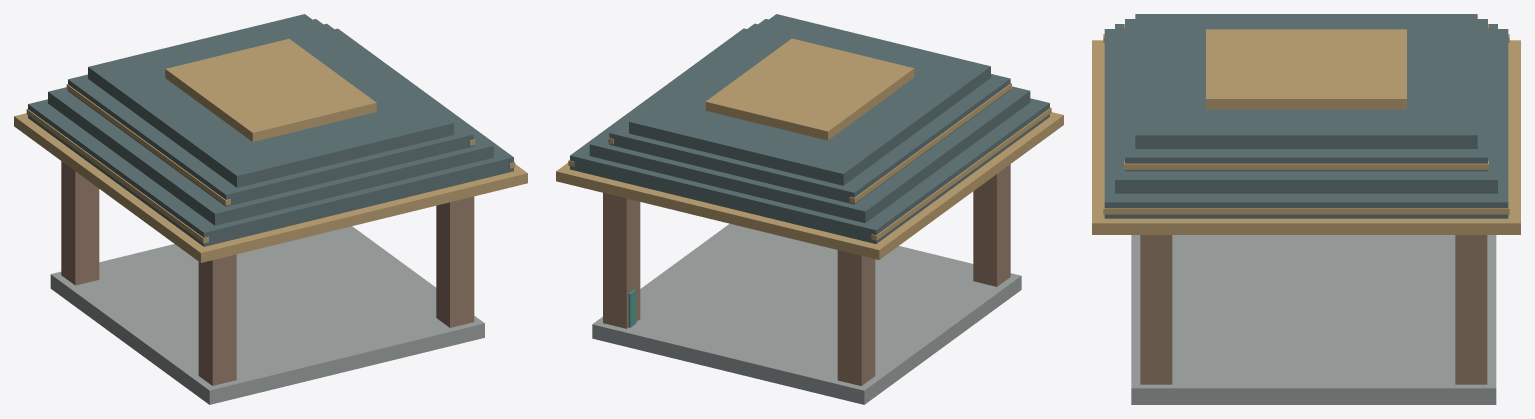
File: wood_pavilion.glb
3 views of the same model, side by side, from view 1: azimuth 30°, elevation 25°; view 2: azimuth 150°, elevation 25°; view 3: azimuth 270°, elevation 25° (orthographic). The views are drawn at different scales.
Parts seen in each view (by area): view 1: wood_pavilion_04_roof_courses, wood_pavilion_00_floor, wood_pavilion_01_open_pillars, wood_pavilion_06_upper_ridge, wood_pavilion_03_eaves, wood_pavilion_05_ridge_trim; view 2: wood_pavilion_04_roof_courses, wood_pavilion_00_floor, wood_pavilion_01_open_pillars, wood_pavilion_06_upper_ridge, wood_pavilion_03_eaves, wood_pavilion_05_ridge_trim; view 3: wood_pavilion_04_roof_courses, wood_pavilion_00_floor, wood_pavilion_06_upper_ridge, wood_pavilion_03_eaves, wood_pavilion_01_open_pillars, wood_pavilion_05_ridge_trim.
Part boxes in pixels (bbox=[...]): wood_pavilion_04_roof_courses: bbox=[28, 14, 513, 246]; wood_pavilion_00_floor: bbox=[50, 226, 484, 404]; wood_pavilion_01_open_pillars: bbox=[61, 161, 474, 385]; wood_pavilion_06_upper_ridge: bbox=[165, 39, 376, 141]; wood_pavilion_03_eaves: bbox=[14, 113, 527, 262]; wood_pavilion_05_ridge_trim: bbox=[26, 84, 515, 243]; wood_pavilion_04_roof_courses: bbox=[570, 14, 1049, 243]; wood_pavilion_00_floor: bbox=[592, 224, 1021, 404]; wood_pavilion_01_open_pillars: bbox=[603, 164, 1010, 385]; wood_pavilion_06_upper_ridge: bbox=[705, 38, 914, 140]; wood_pavilion_03_eaves: bbox=[556, 112, 1063, 259]; wood_pavilion_05_ridge_trim: bbox=[568, 83, 1051, 240]; wood_pavilion_04_roof_courses: bbox=[1104, 14, 1508, 218]; wood_pavilion_00_floor: bbox=[1131, 235, 1496, 404]; wood_pavilion_06_upper_ridge: bbox=[1206, 29, 1406, 109]; wood_pavilion_03_eaves: bbox=[1092, 40, 1520, 234]; wood_pavilion_01_open_pillars: bbox=[1140, 235, 1487, 384]; wood_pavilion_05_ridge_trim: bbox=[1103, 24, 1509, 214].
Size of the model in its own units: 9.5 by 6.38 by 9.4.
